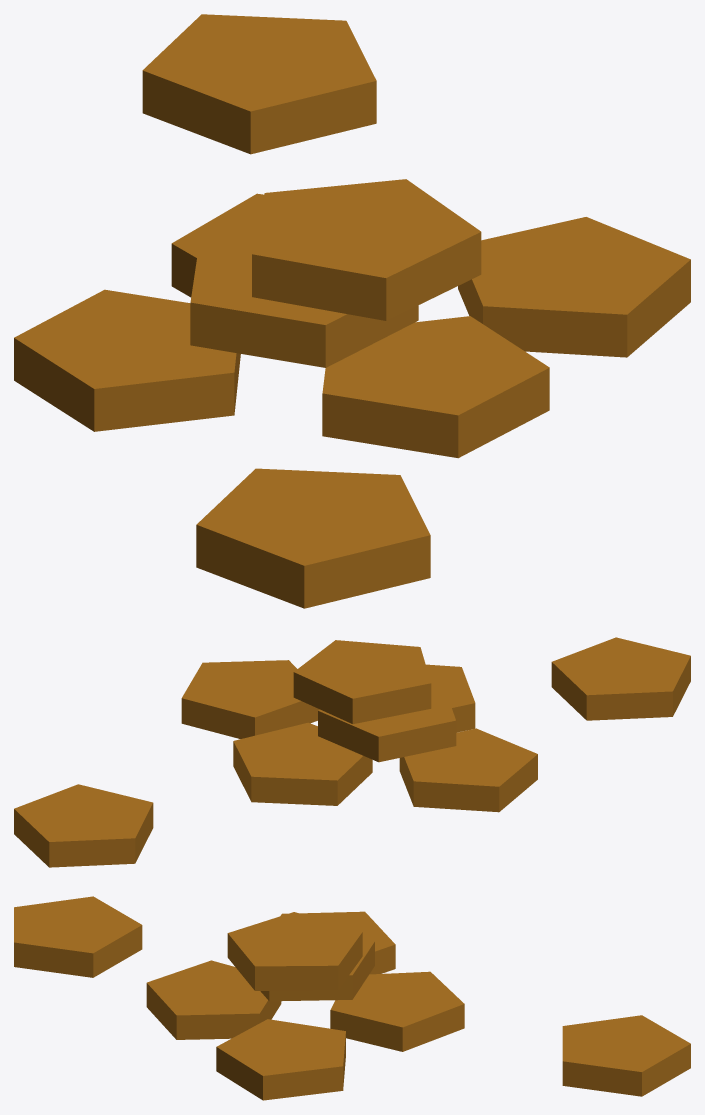
File: CoinPile1.fbx
The picture shows the model from 3 angles, top to bottom: view 1: azimuth 30°, elevation 25°; view 2: azimuth 150°, elevation 25°; view 3: azimuth 270°, elevation 25°; orthographic projection. The views are drawn at different scales.
Parts seen in each view (by area): view 1: CoinPile1; view 2: CoinPile1; view 3: CoinPile1.
Part boxes in pixels (x1,y1,x2,y2): CoinPile1: (14, 14, 690, 608); CoinPile1: (14, 637, 690, 867); CoinPile1: (14, 896, 690, 1100).
Size of the model in its own units: 36.12 by 6.91 by 57.53.
